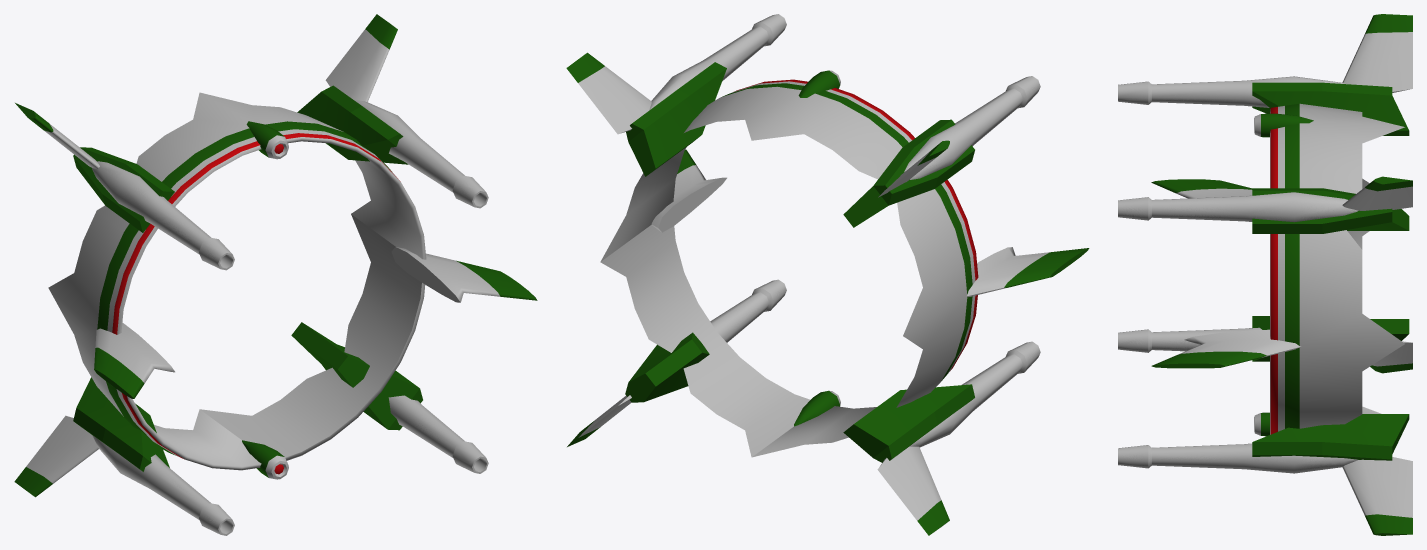
The model's file is Vogel_green.fbx.
The picture shows the model from 3 angles, left to right: view 1: azimuth 30°, elevation 25°; view 2: azimuth 150°, elevation 25°; view 3: azimuth 270°, elevation 25°; orthographic projection. The views are drawn at different scales.
Visible parts, largest first — view 1: Cylinder.001, Cylinder.002, Cube.004, Cube.009, Cube.002, Cylinder.004; view 2: Cylinder.001, Cube.004, Cylinder.002, Cube.009, Cube.002, Cylinder.004; view 3: Cylinder.001, Cylinder.002, Cube.004, Cube.009, Cube.002, Cylinder.004.
Part boxes in pixels (box(x1,y1,x2,y2)): Cylinder.001: box(48, 92, 426, 470); Cylinder.002: box(92, 99, 488, 535); Cube.004: box(73, 85, 422, 471); Cube.009: box(14, 14, 397, 497); Cube.002: box(94, 247, 537, 398); Cylinder.004: box(242, 121, 288, 479); Cylinder.001: box(600, 79, 978, 457); Cube.004: box(625, 62, 974, 462); Cylinder.002: box(649, 14, 1040, 447); Cube.009: box(566, 52, 949, 535); Cube.002: box(651, 149, 1089, 296); Cylinder.004: box(794, 70, 840, 426); Cylinder.001: box(1270, 103, 1404, 434); Cylinder.002: box(1118, 76, 1358, 473); Cube.004: box(1252, 82, 1409, 460); Cube.009: box(1342, 14, 1412, 535); Cube.002: box(1151, 179, 1300, 368); Cylinder.004: box(1254, 113, 1313, 436).
Bounding box in the file's own units: 1041 × 947 × 703.
